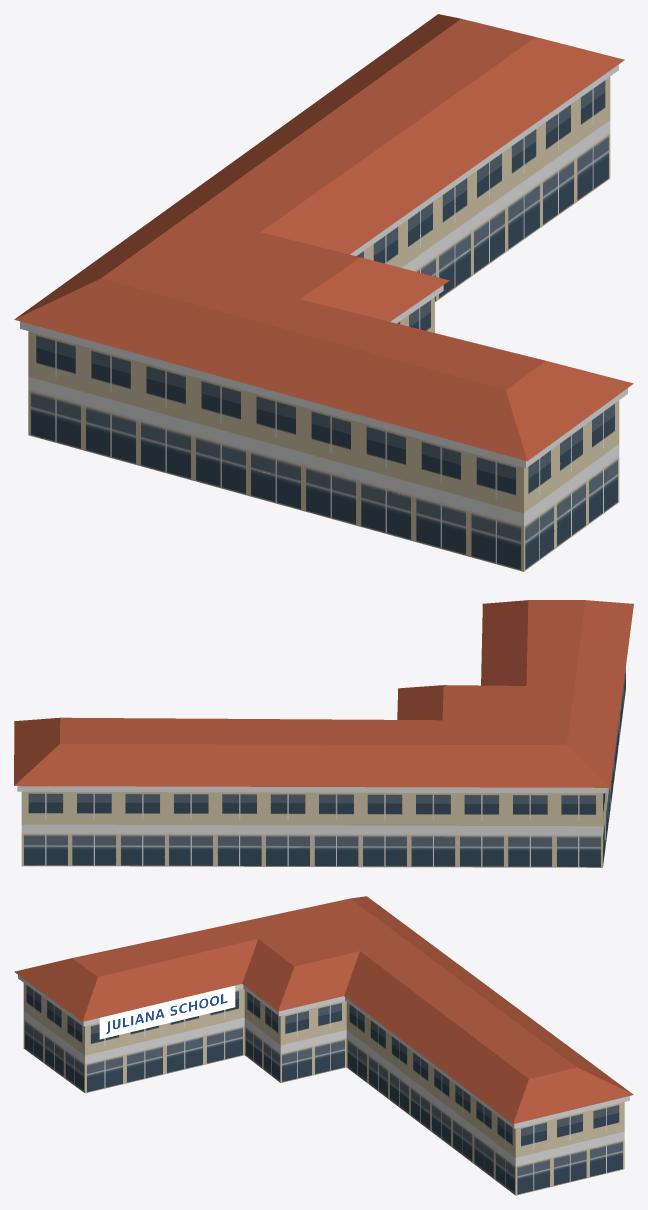
The model's file is julianaschool.glb.
The picture shows the model from 3 angles, top to bottom: view 1: azimuth 30°, elevation 25°; view 2: azimuth 150°, elevation 25°; view 3: azimuth 270°, elevation 25°; orthographic projection. The views are drawn at different scales.
Visible parts, largest first — view 1: julianaschool_lod0; view 2: julianaschool_lod0; view 3: julianaschool_lod0.
Boxes of the visible parts, x1,y1,x2,y2 form: julianaschool_lod0: (14,14,633,571); julianaschool_lod0: (14,600,633,867); julianaschool_lod0: (14,896,633,1195).
Size of what is drawn, in the model's own units: 46.62 by 9.2 by 53.55.
Materials: 5 (3 with a texture image).
